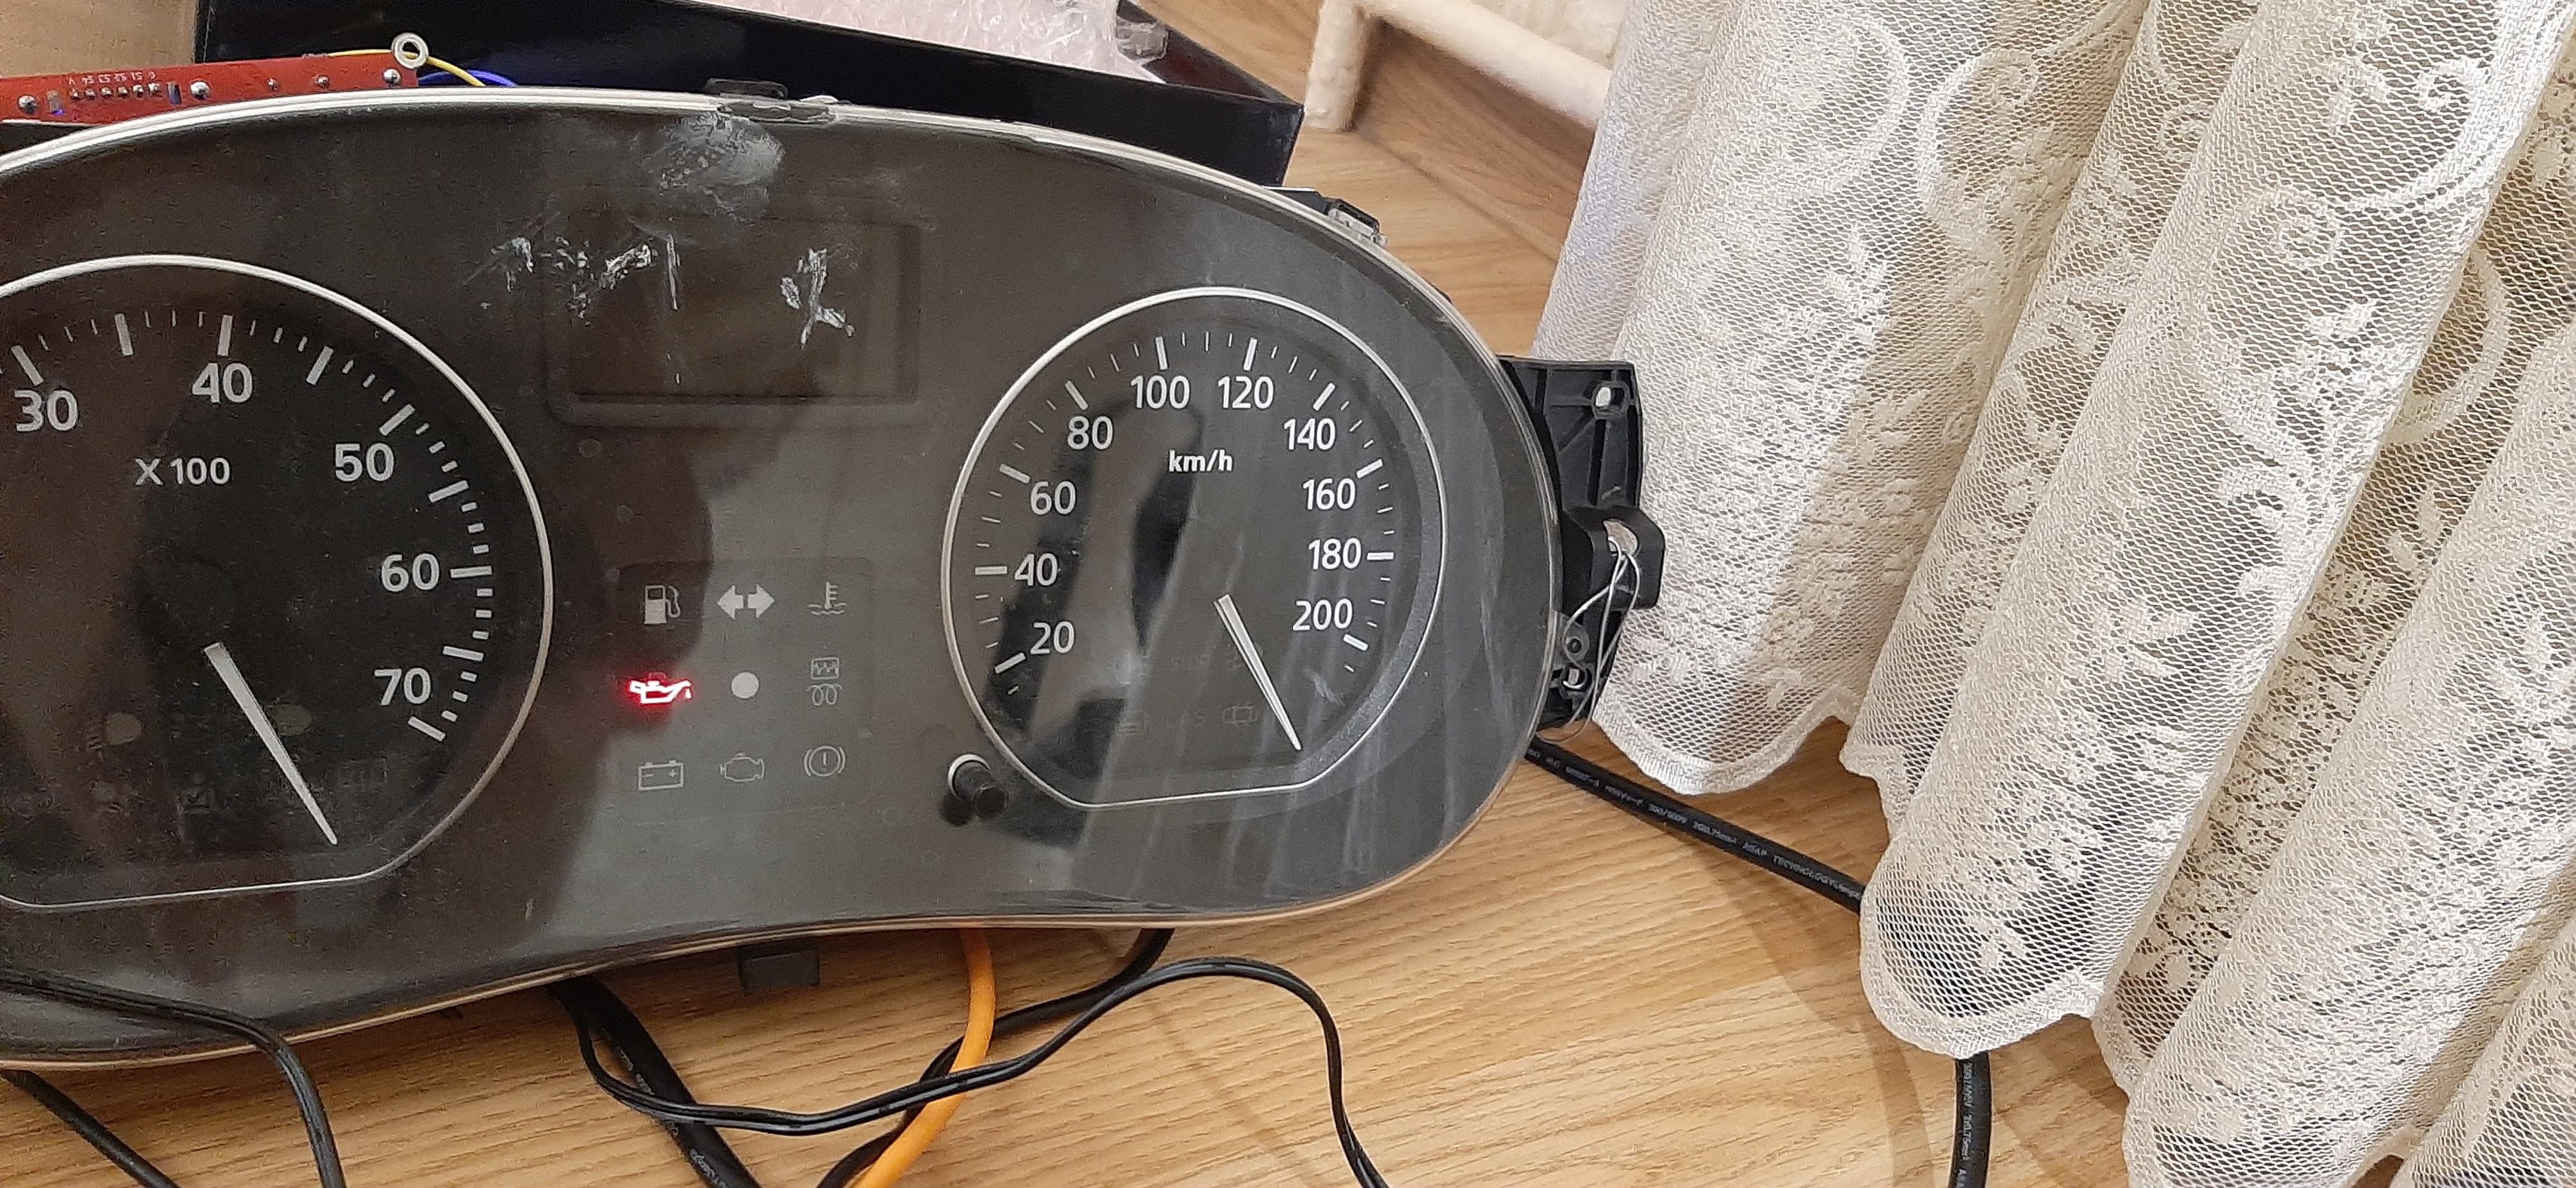oil15: (628, 675, 695, 707)
